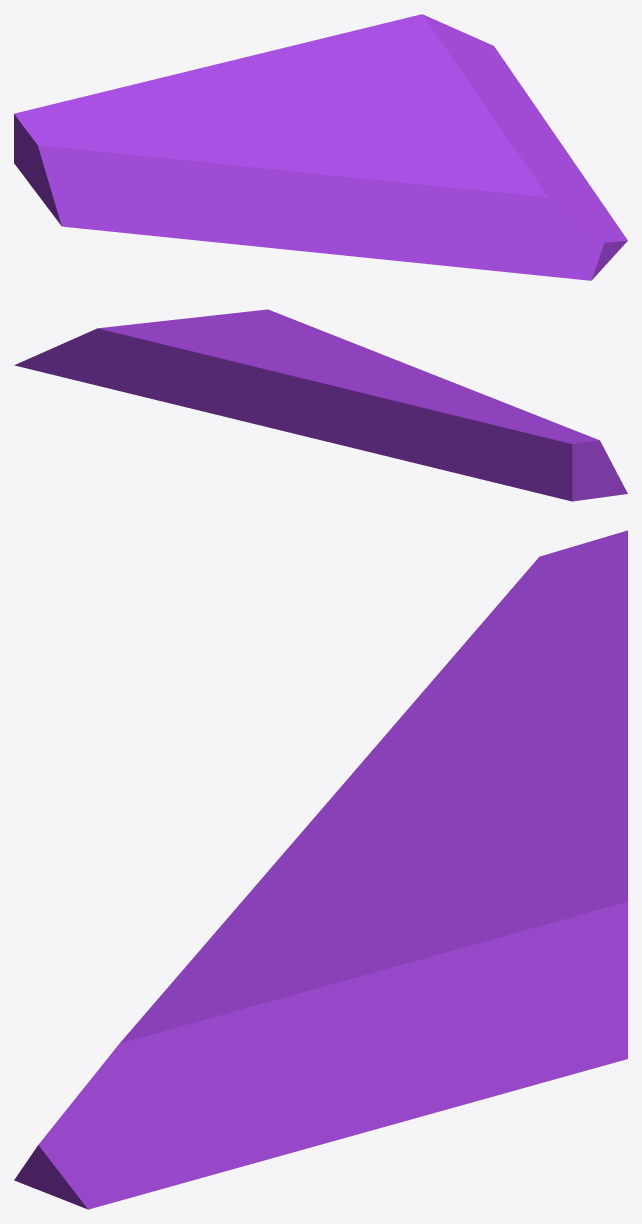
The model's file is Window_156_1_chunks.fbx.
3 renders of one model, top to bottom at view 1: azimuth 30°, elevation 25°; view 2: azimuth 150°, elevation 25°; view 3: azimuth 270°, elevation 25°, orthographic. The views are drawn at different scales.
Visible parts, largest first — view 1: Window_156_1_1, Window_156_1_4, Window_156_1_0, Window_156_1_2, Window_156_1_6, Window_156_1_8, Window_156_1_3, Window_156_1_5, Window_156_1_9; view 2: Window_156_1_1, Window_156_1_4, Window_156_1_9, Window_156_1_2, Window_156_1_10, Window_156_1_12, Window_156_1_3, Window_156_1_0, Window_156_1_5; view 3: Window_156_1_1, Window_156_1_2, Window_156_1_4, Window_156_1_5, Window_156_1_6, Window_156_1_0, Window_156_1_3, Window_156_1_9, Window_156_1_8.
Boxes of the visible parts, x1,y1,x2,y2 form: Window_156_1_1: [285, 14, 580, 180]; Window_156_1_4: [14, 103, 242, 242]; Window_156_1_0: [215, 139, 451, 260]; Window_156_1_2: [118, 47, 300, 155]; Window_156_1_6: [476, 204, 627, 280]; Window_156_1_8: [392, 176, 511, 268]; Window_156_1_3: [233, 82, 326, 185]; Window_156_1_5: [474, 172, 602, 206]; Window_156_1_9: [57, 88, 135, 112]; Window_156_1_1: [14, 311, 357, 417]; Window_156_1_4: [460, 388, 627, 501]; Window_156_1_9: [394, 410, 533, 491]; Window_156_1_2: [245, 365, 486, 416]; Window_156_1_10: [248, 392, 394, 457]; Window_156_1_12: [318, 397, 450, 446]; Window_156_1_3: [230, 363, 467, 422]; Window_156_1_0: [326, 334, 459, 385]; Window_156_1_5: [252, 309, 299, 327]; Window_156_1_1: [167, 777, 627, 1156]; Window_156_1_2: [401, 628, 627, 796]; Window_156_1_4: [374, 530, 627, 748]; Window_156_1_5: [102, 971, 277, 1181]; Window_156_1_6: [14, 1065, 187, 1209]; Window_156_1_0: [199, 761, 386, 951]; Window_156_1_3: [363, 741, 536, 827]; Window_156_1_9: [571, 570, 627, 642]; Window_156_1_8: [161, 937, 233, 995].
Size of the model in its own units: 1020 by 299 by 606.
